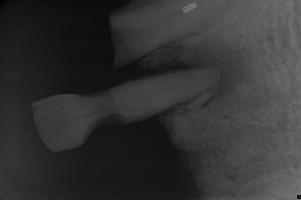Dental Caries: (140, 40, 244, 95)
